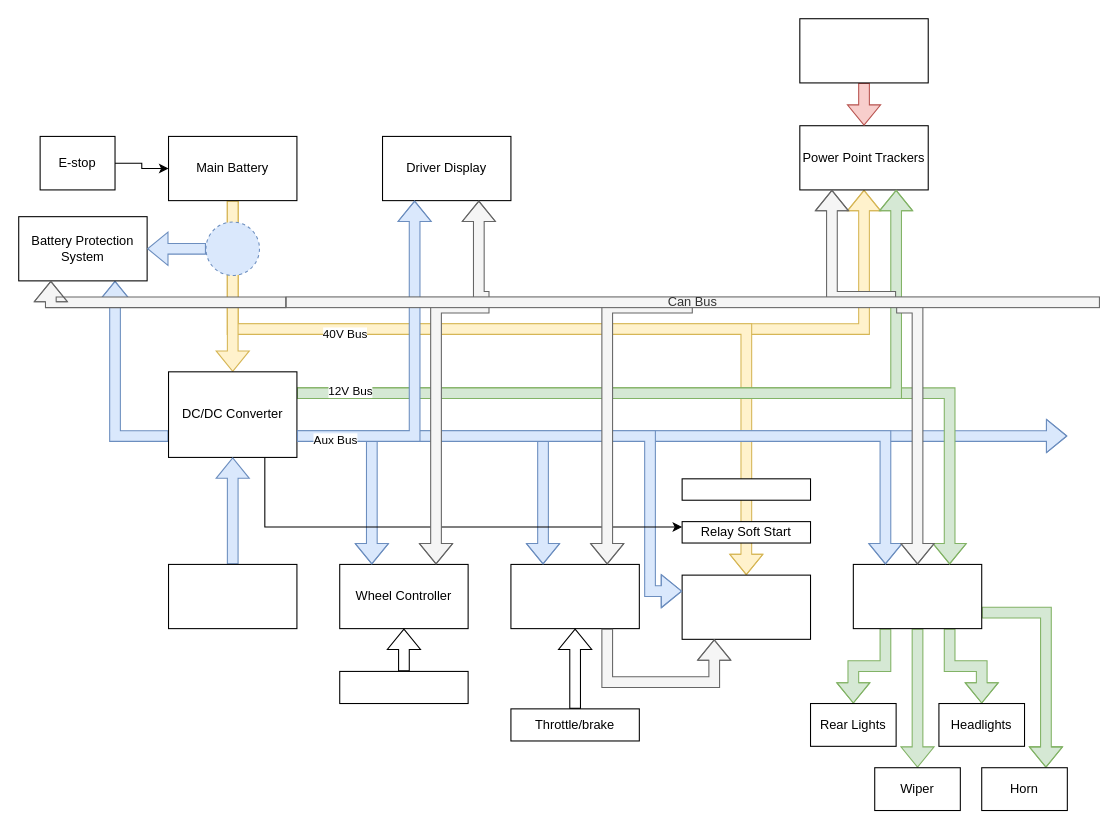
The diagram is 1118 pixels wide and 829 high, and some of its shapes have lost their labels. Each missing label, with the centre of its shape:
"50A inline fuse" goes at pixel 746 489.
"Aux Battery" goes at pixel 232 596.
"Driver Buttons" goes at pixel 403 687.
"Light Controller" goes at pixel 917 596.
"Motor Controller" goes at pixel 746 606.
"Solar Array" goes at pixel 863 50.
"Vehicle Controller" goes at pixel 574 596.
